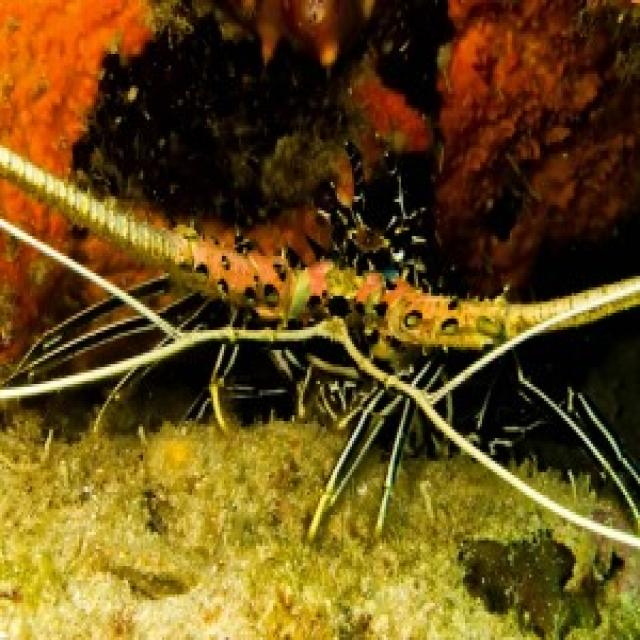lobsters: (14, 79, 640, 612)
